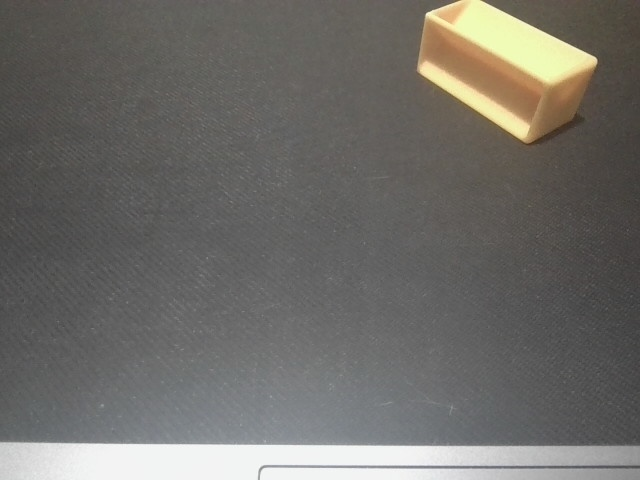YellowSample: (413, 1, 601, 149)
